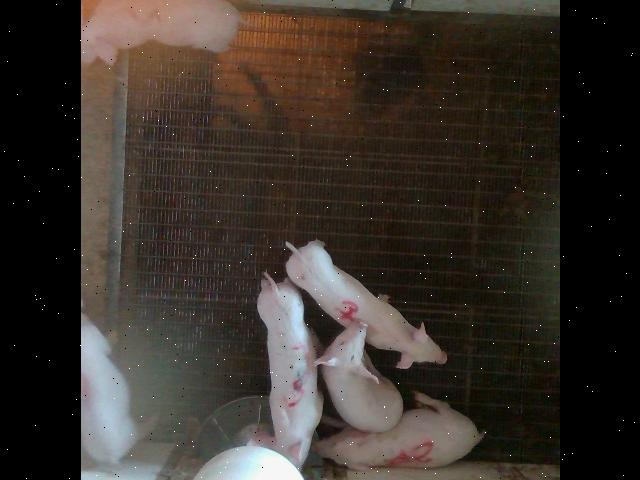pig-1: (81, 315, 138, 464)
pig-2: (81, 0, 240, 64)
pig-3: (249, 272, 322, 468)
pig-4: (285, 241, 446, 369)
pig-5: (312, 392, 484, 471)
